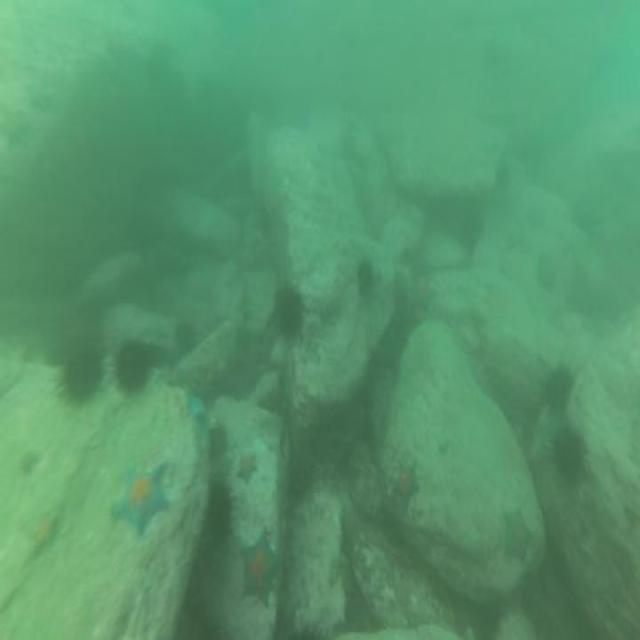echinus: (55, 342, 108, 409), (111, 335, 156, 400), (551, 425, 592, 493), (270, 282, 307, 350), (540, 357, 576, 424), (202, 479, 236, 545), (172, 314, 198, 360), (353, 254, 377, 300), (206, 423, 230, 460)
starfish: (112, 458, 172, 539), (238, 523, 283, 613), (497, 502, 537, 570), (19, 506, 62, 558), (391, 454, 422, 512), (534, 248, 561, 294), (234, 449, 260, 487), (523, 198, 544, 229)
